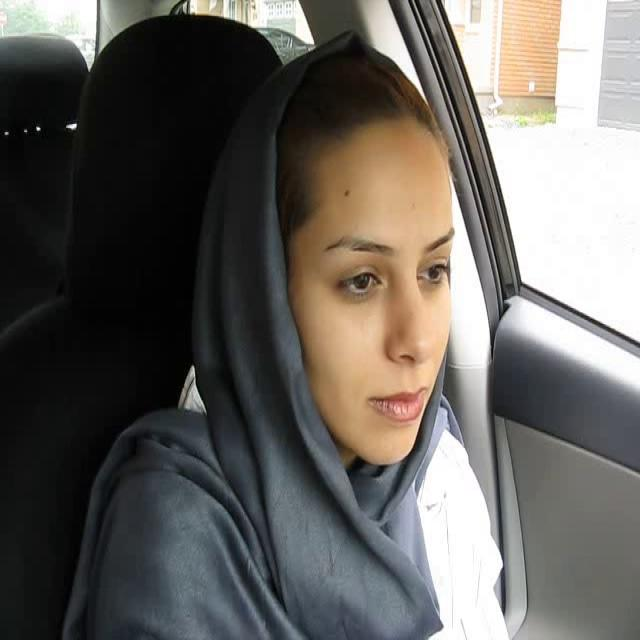close: (364, 381, 432, 427)
